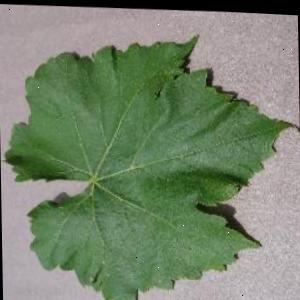Folha: (1, 21, 300, 300)
